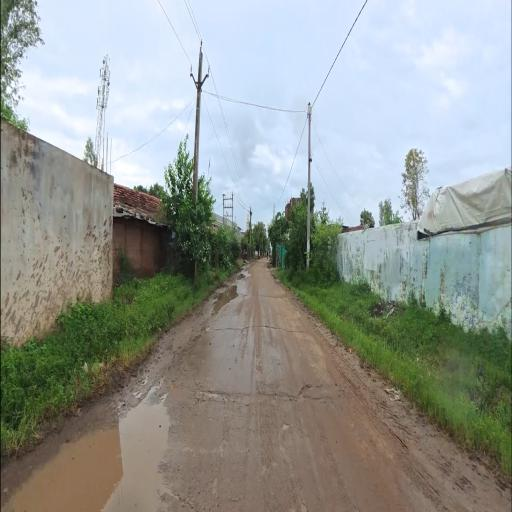longitudinal_crack: (203, 345, 355, 481)
